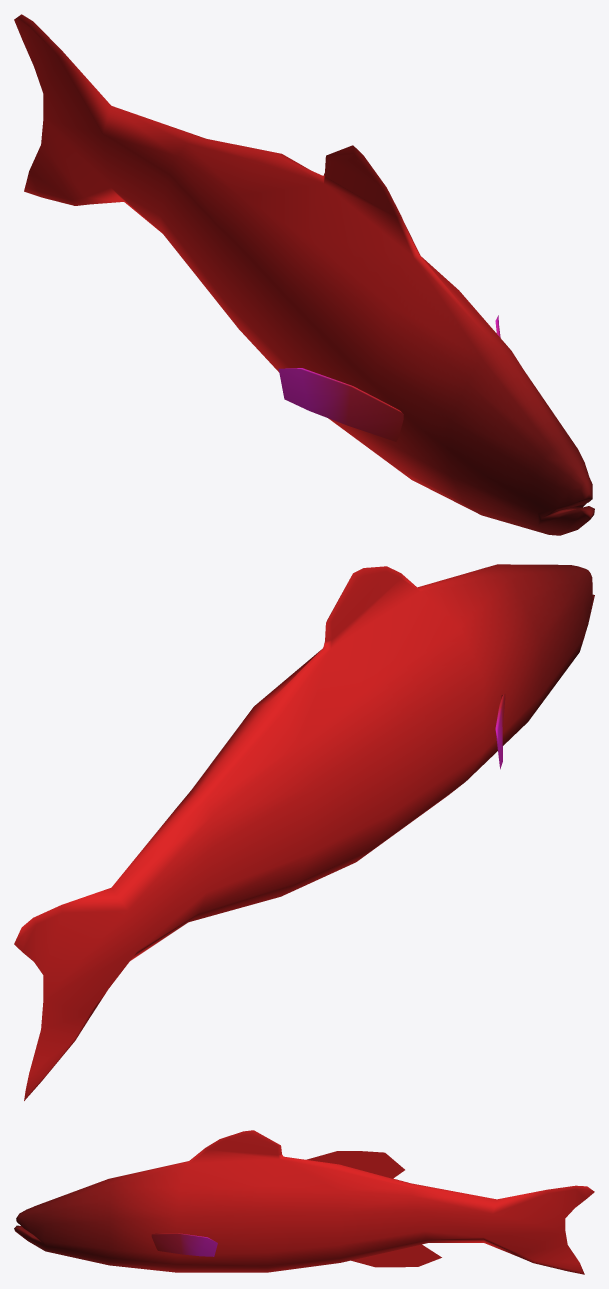
3 renders of one model, top to bottom at view 1: azimuth 30°, elevation 25°; view 2: azimuth 150°, elevation 25°; view 3: azimuth 270°, elevation 25°, orthographic. The views are drawn at different scales.
Visible parts, largest first — view 1: Seabass; view 2: Seabass; view 3: Seabass.
Part boxes in pixels (box(x1,y1,x2,y2)): Seabass: box(14, 14, 594, 535); Seabass: box(14, 564, 594, 1100); Seabass: box(14, 1130, 594, 1274).
Size of the model in its own units: 0.1189 by 0.1485 by 0.5407.
